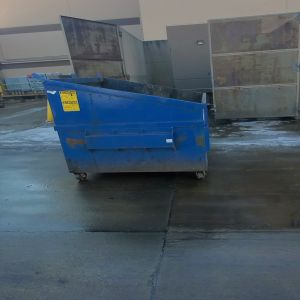Dumpster: (44, 79, 210, 188)
